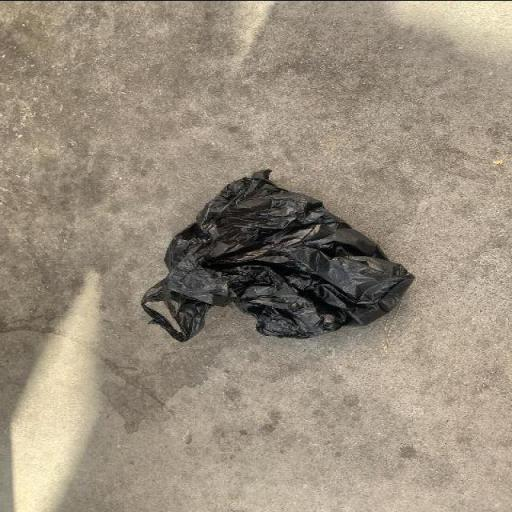plastic-bag: (144, 164, 424, 342)
